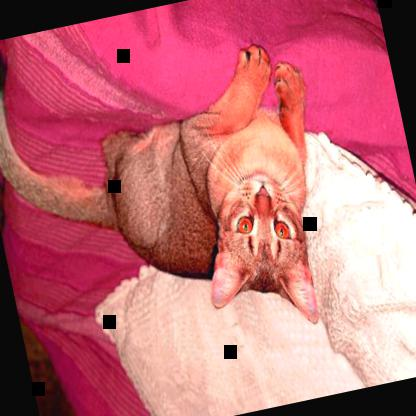cat: (0, 28, 355, 384)
